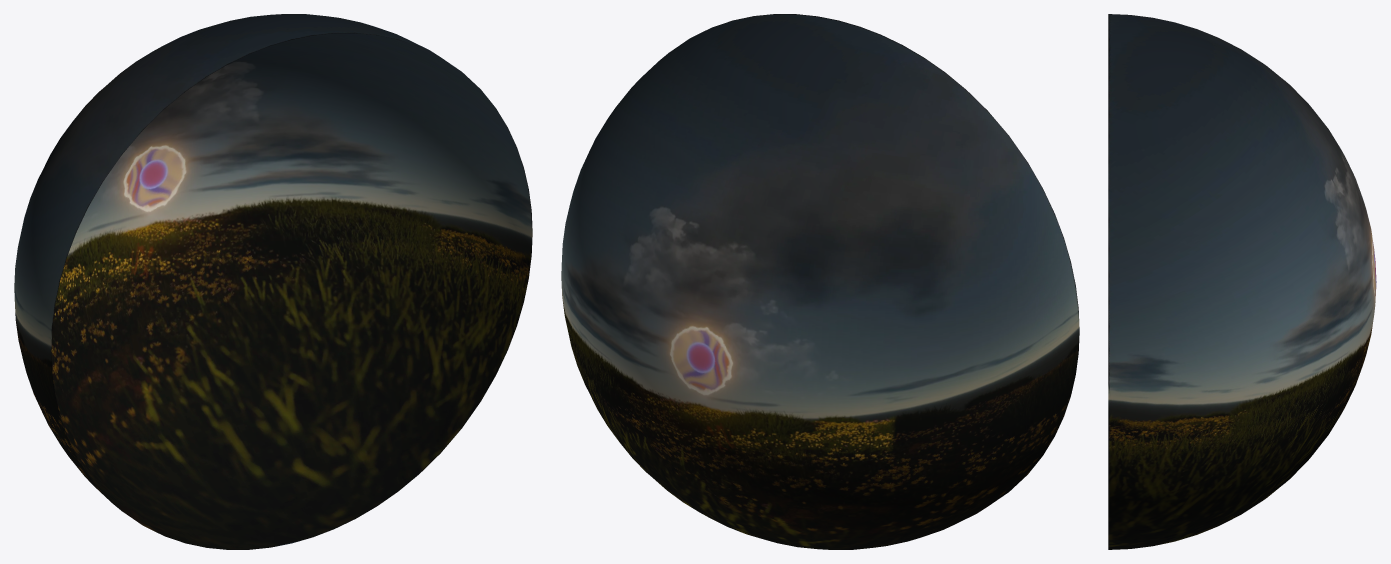
Rendered from Trickster-Erratic-enviroment-MIDDLE.glb.
3 renders of one model, left to right at view 1: azimuth 30°, elevation 25°; view 2: azimuth 150°, elevation 25°; view 3: azimuth 270°, elevation 25°, orthographic. The views are drawn at different scales.
Parts seen in each view (by area): view 1: Roundcube.001; view 2: Roundcube.001; view 3: Roundcube.001.
Boxes of the visible parts, x1=… form: Roundcube.001: x1=14, y1=14, x2=532, y2=549; Roundcube.001: x1=561, y1=14, x2=1079, y2=549; Roundcube.001: x1=1108, y1=14, x2=1376, y2=549.
Size of the model in its own units: 14.38 by 14.38 by 7.19.
1 material, 1 textured.
